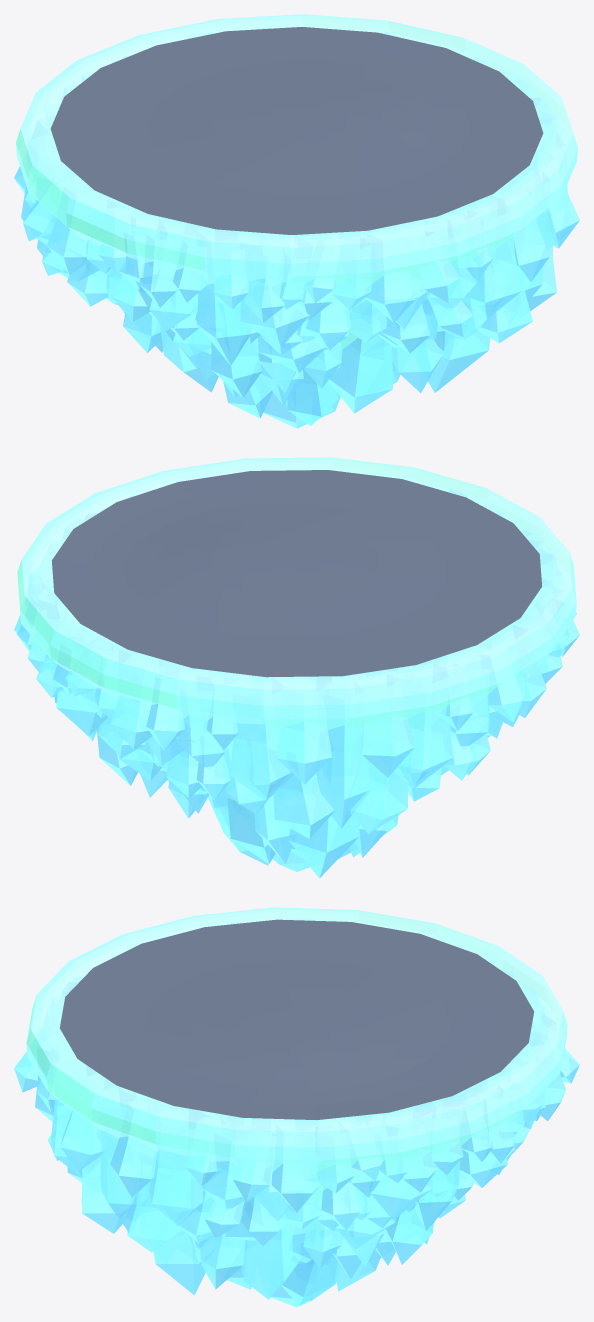
The model's file is InselRund.fbx.
The picture shows the model from 3 angles, top to bottom: view 1: azimuth 30°, elevation 25°; view 2: azimuth 150°, elevation 25°; view 3: azimuth 270°, elevation 25°; orthographic projection. The views are drawn at different scales.
Visible parts, largest first — view 1: Insel3.004; view 2: Insel3.004; view 3: Insel3.004.
Part boxes in pixels (bbox=[...]): Insel3.004: bbox=[14, 14, 579, 428]; Insel3.004: bbox=[14, 457, 579, 878]; Insel3.004: bbox=[14, 907, 579, 1307].
Size of the model in its own units: 851 by 488 by 862.
